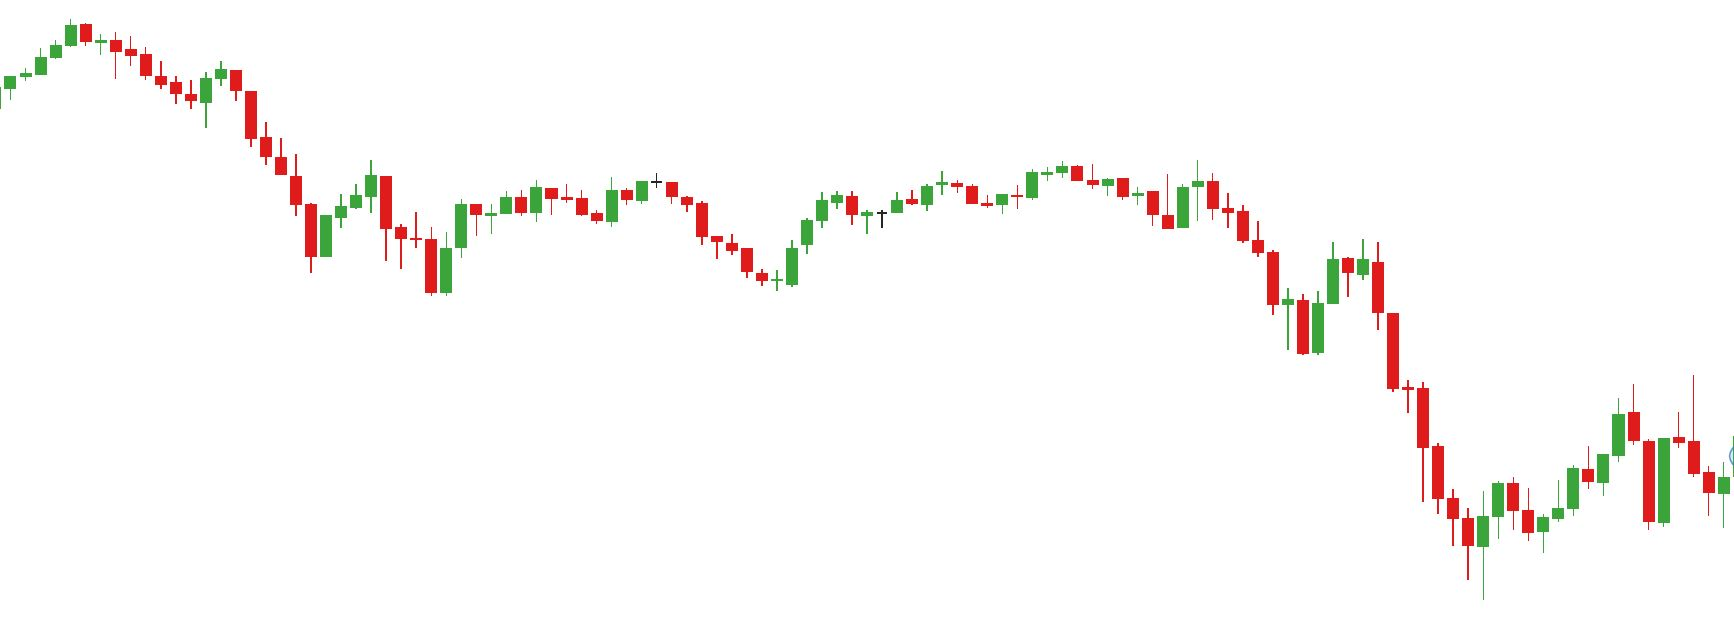buy: (302, 189, 456, 298)
sell: (1613, 376, 1703, 497)
